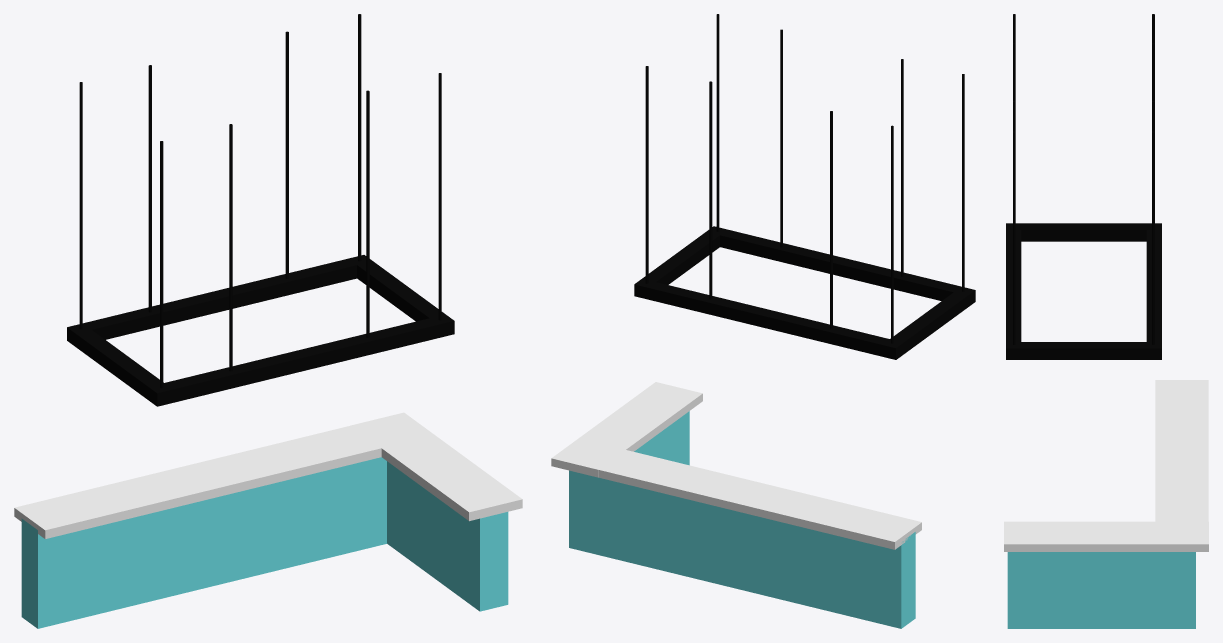
File: bar.fbx
3 views of the same model, side by side, from view 1: azimuth 30°, elevation 25°; view 2: azimuth 150°, elevation 25°; view 3: azimuth 270°, elevation 25° (orthographic). The views are drawn at different scales.
Parts seen in each view (by area): view 1: Bottom1, Ceiling Frame, Top1, Bottom2, Top2, Rope, Rope.002, Rope.003, Rope.004, Rope.001, Rope.005, Rope.006 (+1 smaller); view 2: Bottom1, Ceiling Frame, Top1, Top2, Bottom2, Rope.002, Rope, Rope.007, Rope.006, Rope.004, Rope.003, Rope.001 (+1 smaller); view 3: Bottom2, Top1, Ceiling Frame, Top2, Rope, Rope.007.
Boxes of the visible parts, x1=… form: Bottom1: x1=21, y1=457, x2=386, y2=628; Ceiling Frame: x1=67, y1=255, x2=454, y2=406; Top1: x1=14, y1=415, x2=421, y2=539; Bottom2: x1=387, y1=461, x2=508, y2=611; Top2: x1=352, y1=412, x2=522, y2=521; Rope: x1=358, y1=14, x2=361, y2=261; Rope.002: x1=285, y1=31, x2=288, y2=278; Rope.003: x1=148, y1=65, x2=151, y2=312; Rope.004: x1=79, y1=82, x2=82, y2=329; Rope.001: x1=160, y1=141, x2=163, y2=388; Rope.005: x1=229, y1=124, x2=232, y2=371; Rope.006: x1=366, y1=90, x2=369, y2=337; Bottom1: x1=569, y1=470, x2=915, y2=628; Ceiling Frame: x1=634, y1=226, x2=975, y2=359; Top1: x1=572, y1=450, x2=921, y2=549; Top2: x1=551, y1=382, x2=702, y2=477; Bottom2: x1=634, y1=411, x2=689, y2=465; Rope.002: x1=709, y1=81, x2=712, y2=299; Rope: x1=645, y1=66, x2=648, y2=283; Rope.007: x1=716, y1=14, x2=719, y2=231; Rope.006: x1=780, y1=29, x2=782, y2=247; Rope.004: x1=891, y1=125, x2=893, y2=343; Rope.003: x1=830, y1=111, x2=832, y2=328; Rope.001: x1=962, y1=74, x2=964, y2=291; Bottom2: x1=1007, y1=552, x2=1195, y2=628; Top1: x1=1155, y1=380, x2=1208, y2=538; Ceiling Frame: x1=1006, y1=223, x2=1161, y2=359; Top2: x1=1004, y1=521, x2=1208, y2=551; Rope: x1=1152, y1=131, x2=1154, y2=344; Rope.007: x1=1013, y1=131, x2=1015, y2=344.
Bounding box in the file's own units: 413 × 551 × 218.
